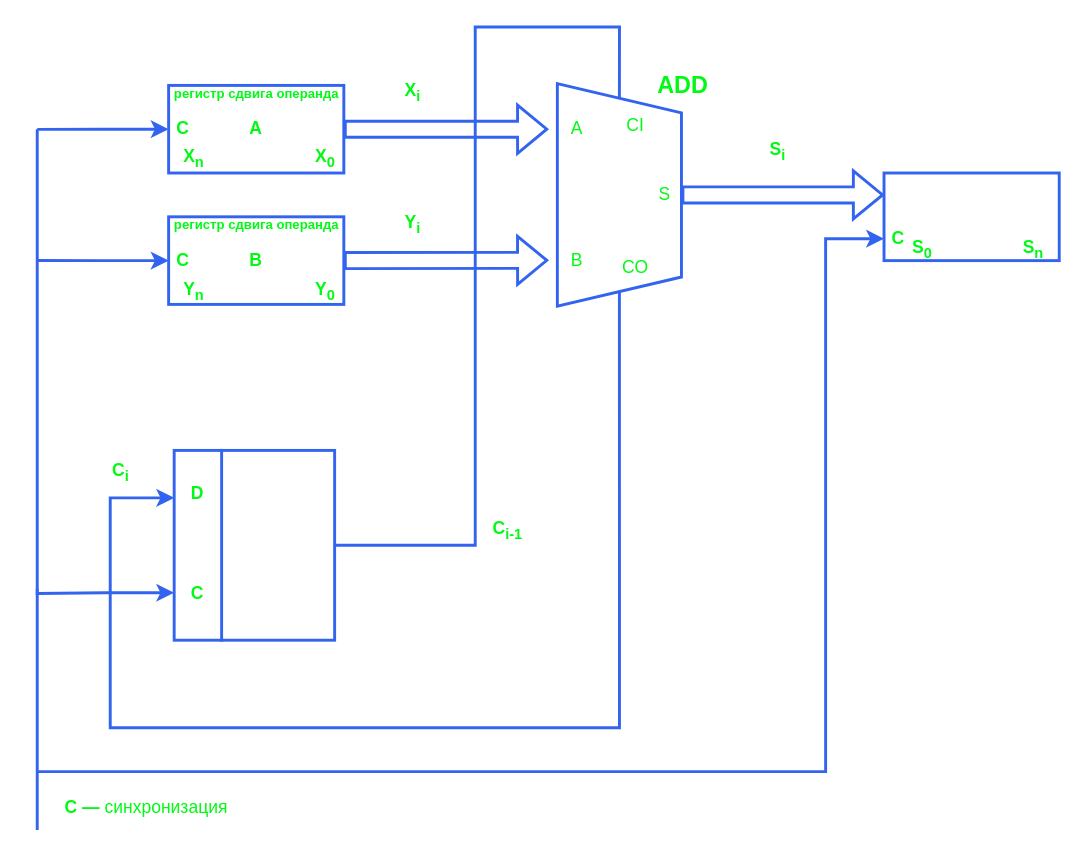
Image size: 1085x857. Some labels were removed from this diagram. The shapes that lost their labels are listed below. From the top down, each one's box as (x1, y1, x2, y2) in pixels, then its label:
(882, 171, 1060, 261): регистр сдвига результата
(219, 448, 335, 641): ТТ
